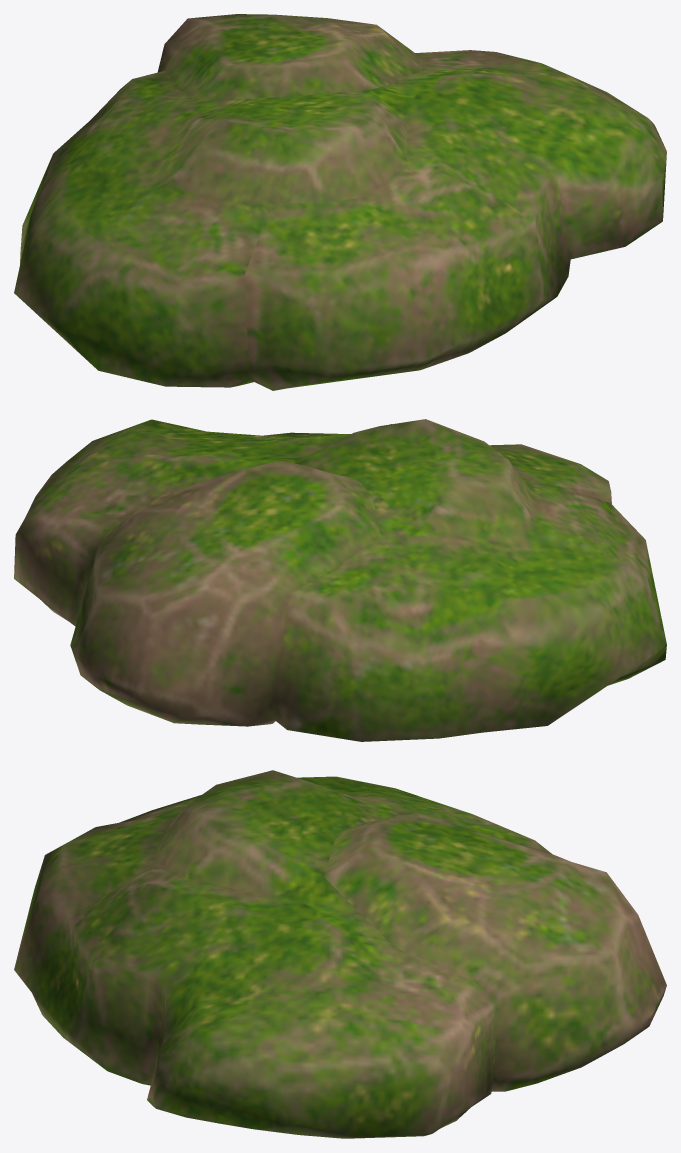
Rendered from sb_obj_nature006_Stone04f.fbx.
3 renders of one model, top to bottom at view 1: azimuth 30°, elevation 25°; view 2: azimuth 150°, elevation 25°; view 3: azimuth 270°, elevation 25°, orthographic. The views are drawn at different scales.
Visible parts, largest first — view 1: sb_obj_nature006_Stone04f; view 2: sb_obj_nature006_Stone04f; view 3: sb_obj_nature006_Stone04f.
Part boxes in pixels (x1,y1,x2,y2): sb_obj_nature006_Stone04f: (14,14,666,390); sb_obj_nature006_Stone04f: (14,419,666,741); sb_obj_nature006_Stone04f: (14,770,666,1138).
Bounding box in the file's own units: 0.8885 × 0.293 × 0.8052.
